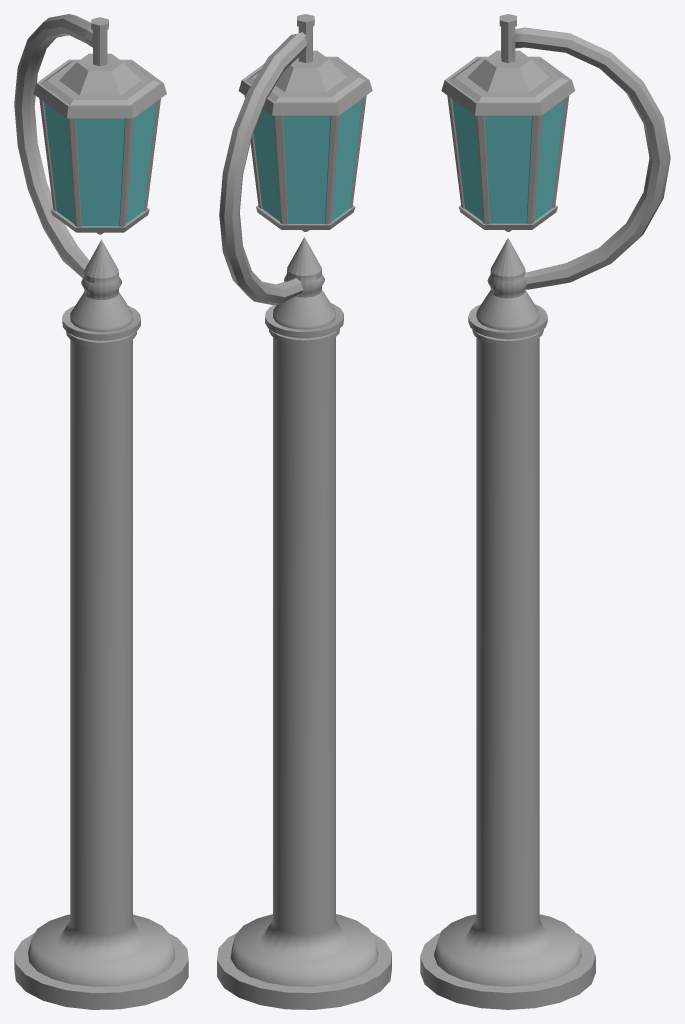
The model's file is SM_streetlamp2.fbx.
3 renders of one model, left to right at view 1: azimuth 30°, elevation 25°; view 2: azimuth 150°, elevation 25°; view 3: azimuth 270°, elevation 25°, orthographic.
Visible parts, largest first — view 1: streetlamp; view 2: streetlamp; view 3: streetlamp.
Part boxes in pixels (x1=…): streetlamp: x1=14, y1=14, x2=188, y2=1009; streetlamp: x1=217, y1=14, x2=391, y2=1009; streetlamp: x1=420, y1=14, x2=670, y2=1009.
Bounding box in the file's own units: 0.6252 × 3.75 × 0.8917.
